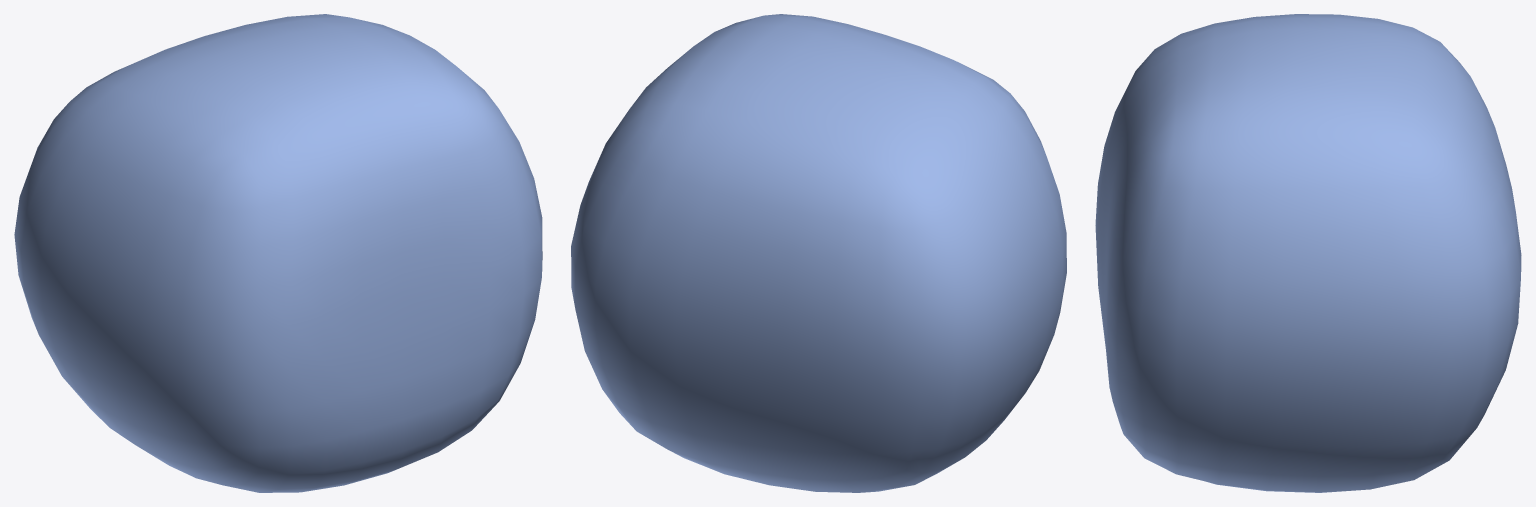
Rendered from Marshmallow_A_01.fbx.
The picture shows the model from 3 angles, left to right: view 1: azimuth 30°, elevation 25°; view 2: azimuth 150°, elevation 25°; view 3: azimuth 270°, elevation 25°; orthographic projection. The views are drawn at different scales.
Parts seen in each view (by area): view 1: Marshmallow_A_01_LOD0; view 2: Marshmallow_A_01_LOD0; view 3: Marshmallow_A_01_LOD0.
Boxes of the visible parts, x1=… form: Marshmallow_A_01_LOD0: x1=14, y1=14, x2=542, y2=492; Marshmallow_A_01_LOD0: x1=571, y1=14, x2=1066, y2=492; Marshmallow_A_01_LOD0: x1=1095, y1=14, x2=1521, y2=492.
Size of what is drawn, in the model's own units: 403 by 367 by 344.
